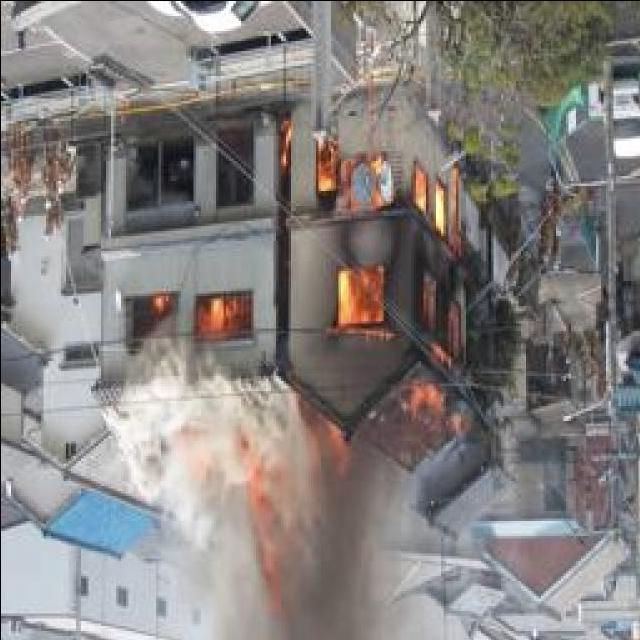Fire: (306, 138, 477, 450), (140, 287, 249, 335), (240, 450, 276, 552)
